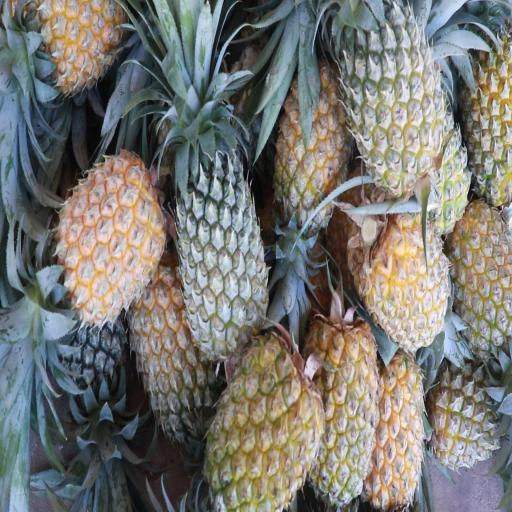------------------------------: (345, 9, 446, 184), (136, 271, 216, 432), (454, 198, 510, 348), (430, 365, 501, 470), (466, 33, 512, 195)
Pineapple - v8 v1: (209, 330, 321, 511), (64, 148, 166, 315), (360, 197, 451, 349), (308, 325, 376, 504), (279, 57, 354, 218), (370, 347, 422, 507), (34, 0, 124, 90)
